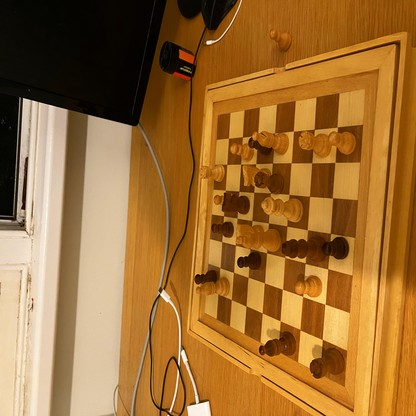bishop_black: (282, 236, 326, 260), (258, 331, 297, 355)
bishop_white: (251, 132, 288, 153), (195, 279, 231, 295)
king_white: (235, 230, 280, 253)
knight_black: (223, 192, 250, 214)
knight_white: (242, 165, 271, 187)
pawn_black: (324, 234, 349, 259), (238, 252, 261, 268), (248, 139, 270, 155), (212, 221, 233, 236), (195, 270, 216, 282)
pawn_white: (329, 132, 356, 155), (295, 279, 322, 297), (231, 142, 255, 159), (271, 30, 291, 50)
queen_white: (261, 198, 303, 222)
rock_black: (310, 349, 345, 378), (255, 173, 285, 193)
rock_white: (299, 132, 331, 158), (200, 165, 225, 182)
